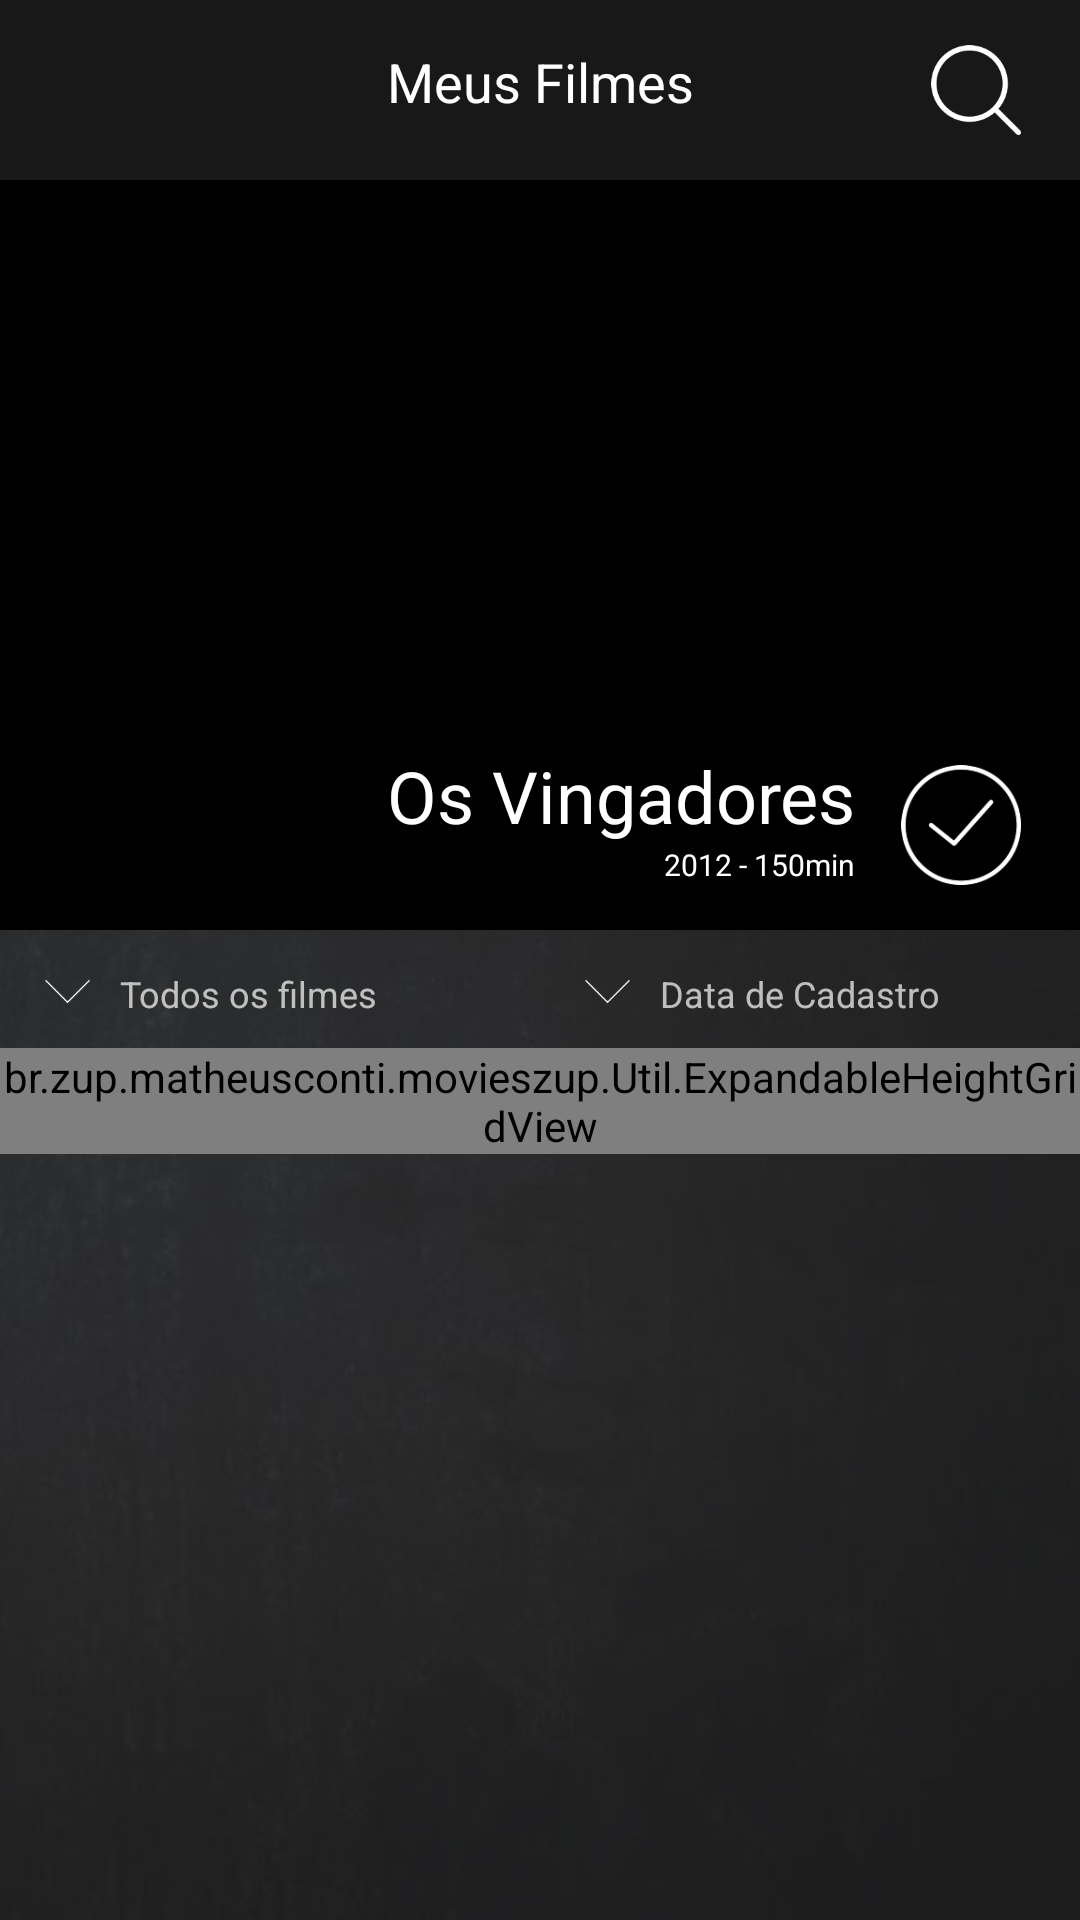

Named icons in this screenshot (1080*1920) and their centers, (x,y):
down arrow: (67,991), (607,991)
magnifying glass: (976,90)
success: (961,825)
